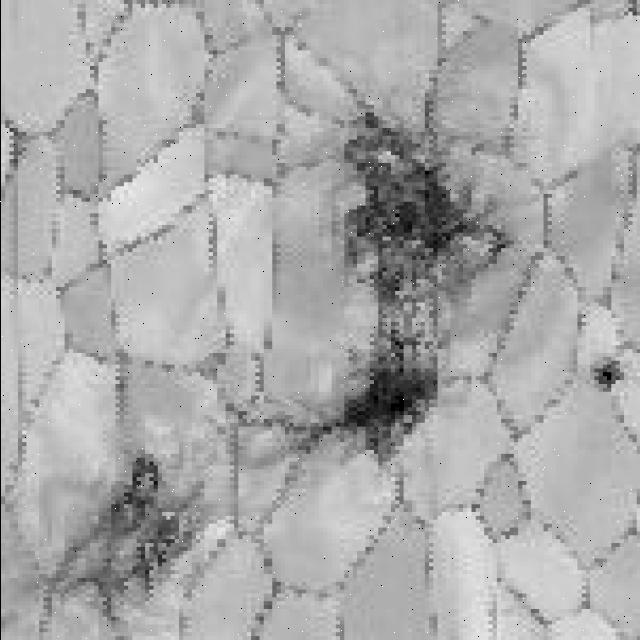good_void: (299, 106, 514, 470), (34, 452, 224, 629), (585, 354, 625, 394)
